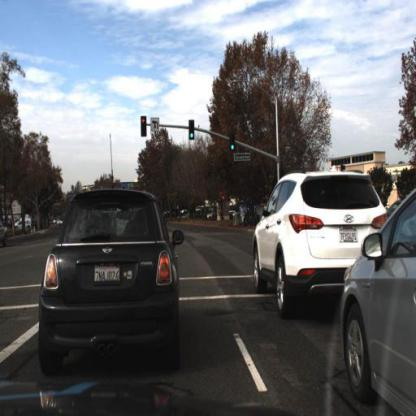car: (41, 181, 187, 382), (249, 164, 389, 321), (338, 172, 415, 414), (0, 204, 14, 258), (12, 213, 35, 238)
trafficLight-Green: (226, 130, 238, 162), (187, 116, 197, 146), (228, 129, 237, 152)
trafficLight-RedLeft: (138, 115, 148, 143)
